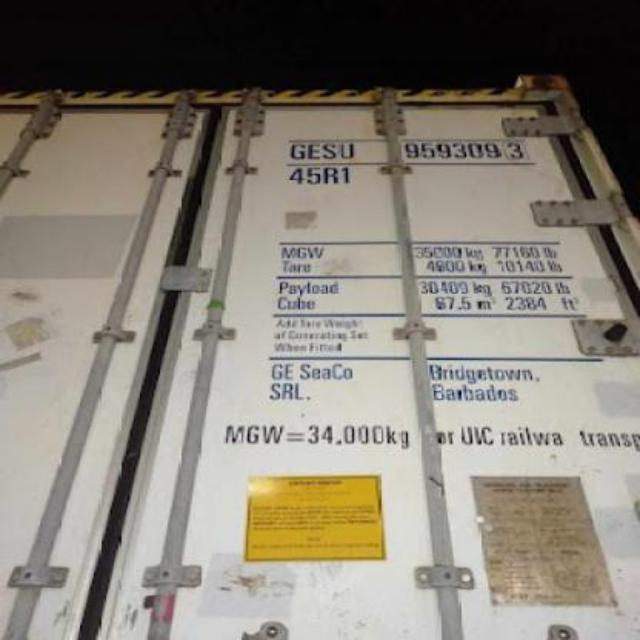0: (466, 132, 482, 164)
3: (504, 138, 528, 162), (450, 134, 466, 162)
5: (420, 134, 436, 162)
9: (484, 130, 500, 162), (402, 136, 420, 160), (436, 132, 449, 164)
E: (304, 133, 324, 163)
G: (284, 136, 304, 158)
S: (322, 138, 340, 162)
U: (338, 134, 358, 162)
